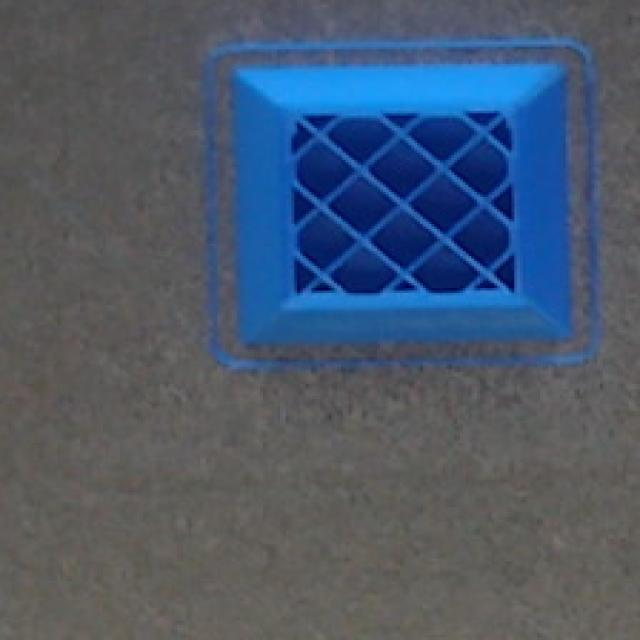noMistake: (220, 49, 585, 345)
